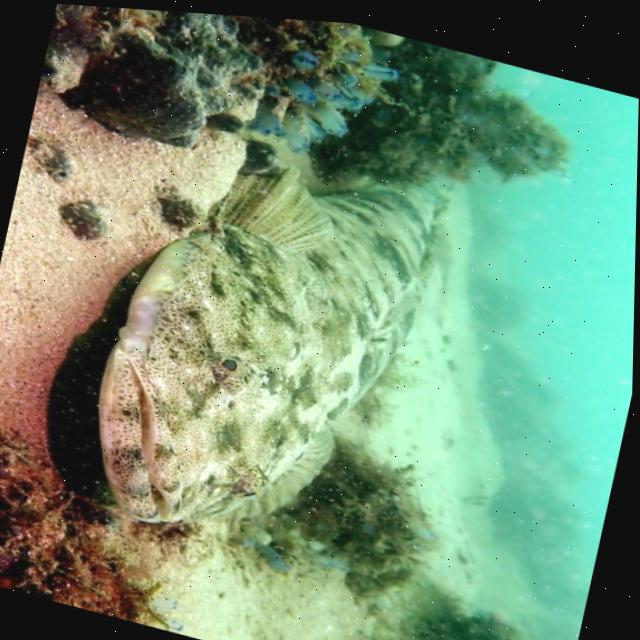Flathead: (35, 70, 491, 614)
